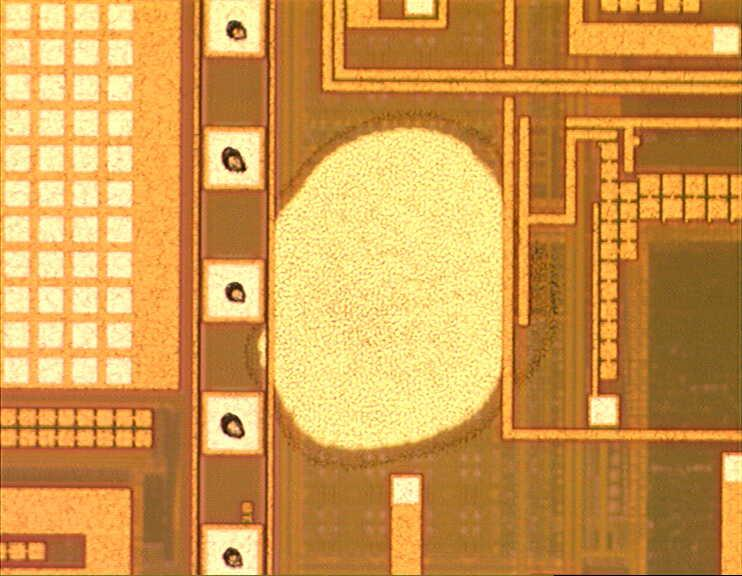BLOCK ETCH: (237, 111, 573, 475)
